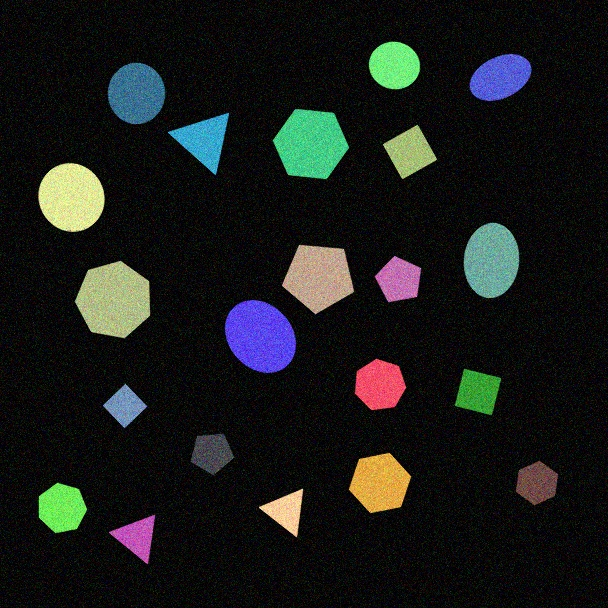Circulo: (38, 162, 105, 233), (107, 62, 166, 125), (368, 41, 421, 90)
Elipse: (224, 299, 297, 374), (463, 222, 520, 299), (469, 53, 532, 102)
Heptagono: (74, 260, 151, 339), (354, 358, 407, 411), (38, 482, 88, 534)
Hexagono: (272, 108, 350, 180), (348, 452, 412, 514), (515, 460, 559, 506)
Pentagono: (281, 244, 355, 315), (374, 255, 422, 303), (190, 433, 235, 476)
Quadrado: (382, 124, 438, 180), (454, 368, 502, 416), (102, 383, 148, 429)
Triangulo: (168, 112, 230, 176), (109, 514, 156, 565), (259, 488, 304, 538)
